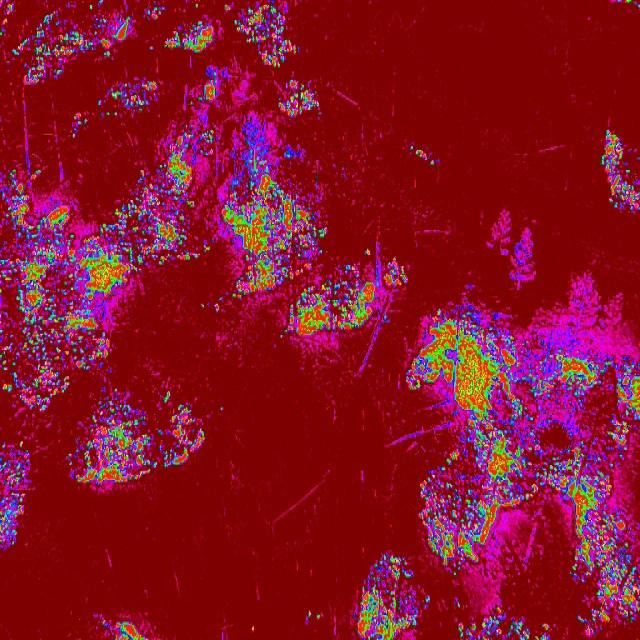fire: (570, 340, 640, 640), (224, 122, 328, 302), (0, 166, 74, 410), (421, 448, 530, 578), (402, 310, 521, 411), (123, 169, 204, 273), (73, 387, 154, 488), (75, 208, 123, 372), (0, 0, 75, 84), (352, 555, 419, 640), (233, 0, 300, 68), (278, 300, 372, 342), (0, 440, 33, 551), (522, 338, 570, 408), (600, 131, 640, 214), (154, 404, 204, 470), (451, 412, 544, 446), (75, 12, 134, 58), (97, 78, 159, 119), (528, 444, 570, 504), (451, 617, 550, 640), (162, 126, 216, 168), (275, 77, 321, 121), (328, 260, 376, 300), (162, 22, 218, 52), (190, 63, 221, 107), (97, 620, 146, 640), (384, 255, 409, 287), (408, 144, 436, 166), (142, 0, 168, 21), (68, 113, 86, 137), (490, 605, 510, 619), (304, 607, 322, 622), (212, 296, 225, 314), (66, 452, 74, 481), (614, 0, 640, 8), (421, 596, 432, 614), (222, 1, 232, 13), (248, 624, 258, 634), (198, 301, 208, 311), (205, 242, 212, 256), (363, 248, 372, 258), (163, 391, 172, 401), (454, 599, 464, 607), (86, 2, 95, 10), (194, 0, 200, 10), (148, 44, 154, 54), (218, 406, 225, 413)
